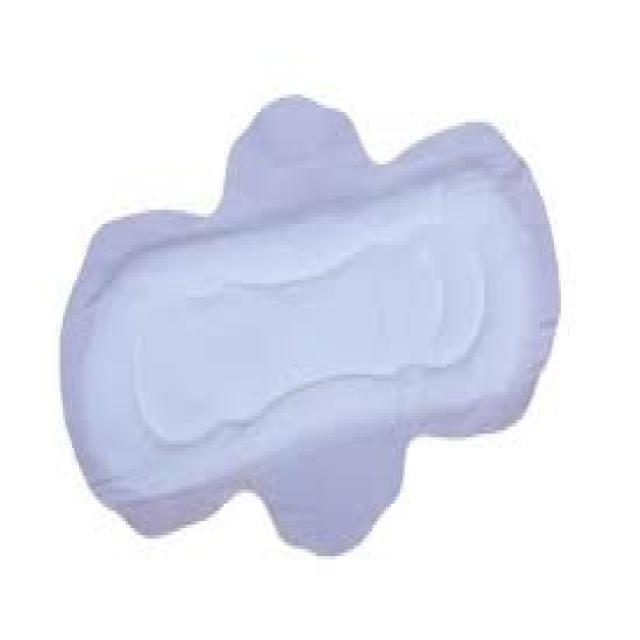napkin: (61, 100, 559, 553)
